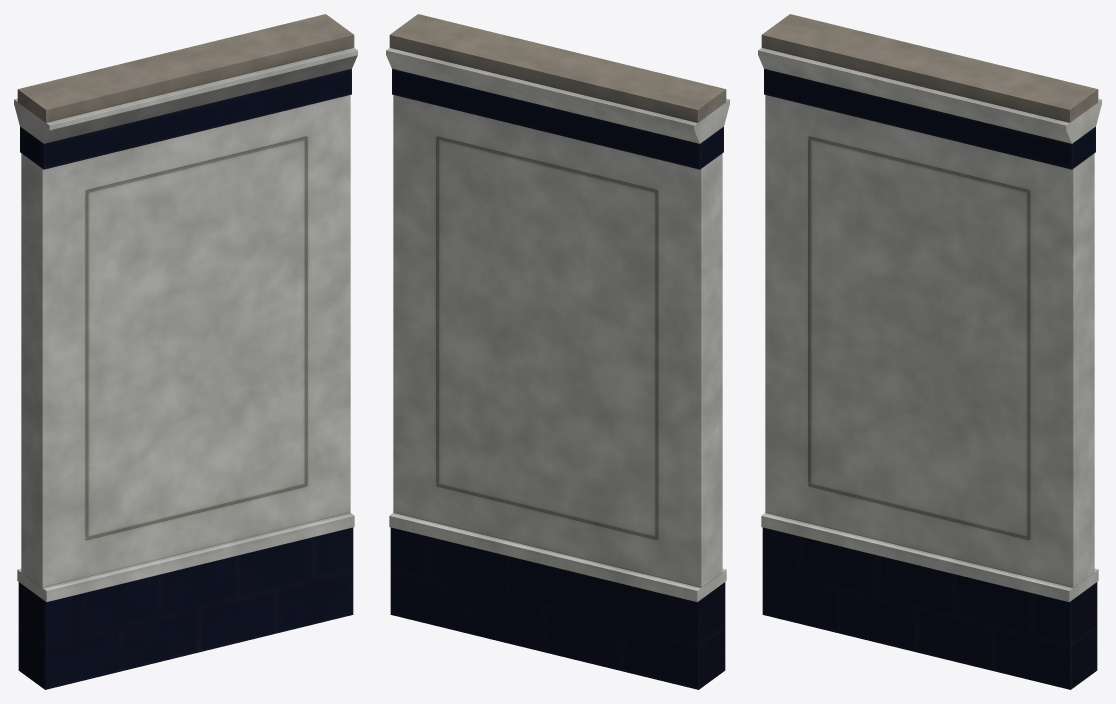
File: charter_wall.glb
3 views of the same model, side by side, from view 1: azimuth 30°, elevation 25°; view 2: azimuth 150°, elevation 25°; view 3: azimuth 330°, elevation 25° (orthographic).
Parts seen in each view (by area): view 1: charter_wall; view 2: charter_wall; view 3: charter_wall.
Part boxes in pixels (box(x1,y1,x2,y2)): charter_wall: box(14, 14, 357, 689); charter_wall: box(386, 14, 729, 689); charter_wall: box(758, 14, 1101, 689).
Bounding box in the file's own units: 2 × 3.6 × 0.4.
Materials: 1 (1 with a texture image).
